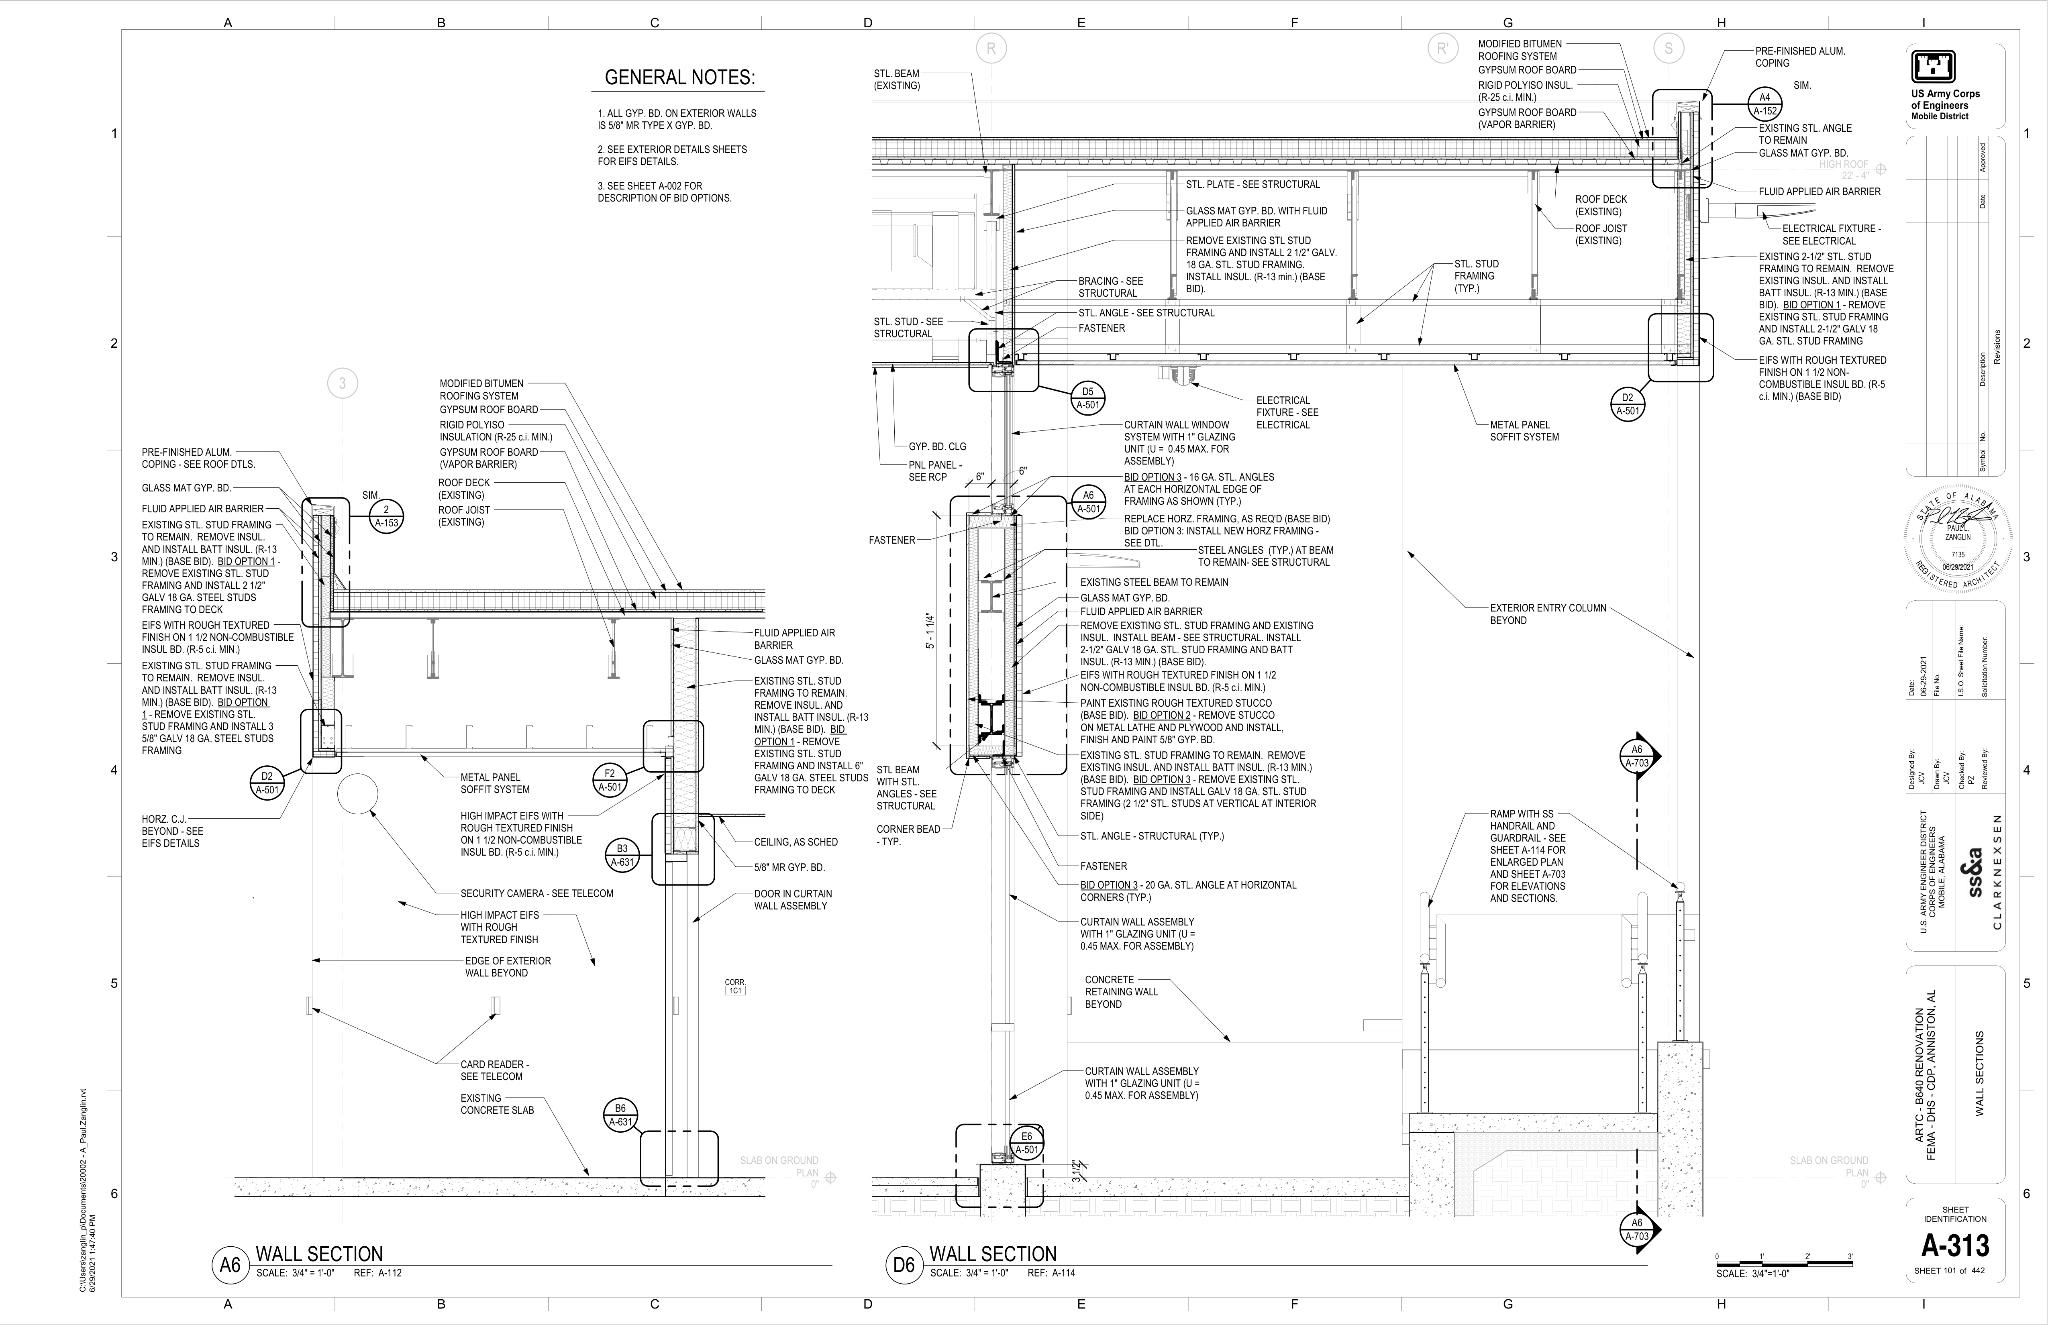detail: (1713, 81, 1786, 126), (1040, 374, 1110, 419), (349, 495, 412, 539), (589, 758, 644, 801), (244, 762, 297, 805), (1608, 378, 1656, 425), (600, 834, 652, 876), (1004, 1122, 1051, 1167), (598, 1093, 644, 1137)
title: (210, 1239, 422, 1290), (883, 1242, 1083, 1289), (1612, 729, 1665, 872), (1617, 1144, 1664, 1258)
